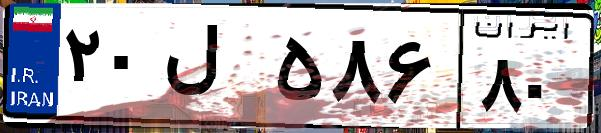0: (525, 38, 570, 115), (110, 28, 158, 98)
2: (57, 26, 110, 100)
5: (270, 28, 330, 110)
6: (385, 28, 445, 110)
8: (330, 28, 385, 110), (475, 38, 525, 113)
ل: (158, 20, 270, 120)
